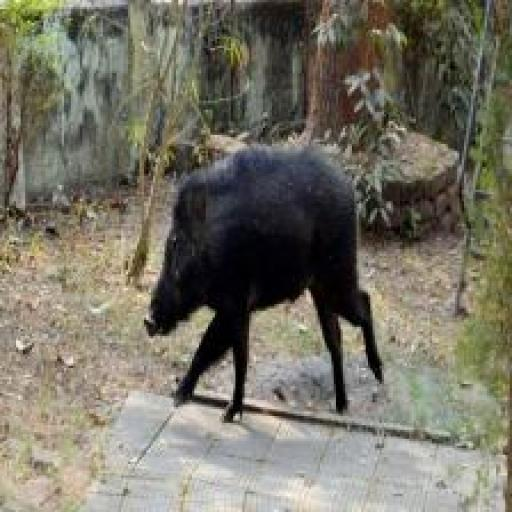Pig: (144, 144, 384, 421)
